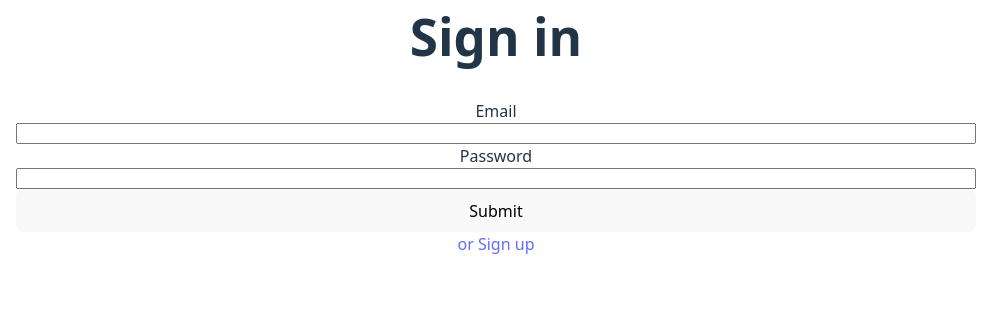
Test: Signin › displays error message when API throws an error
The width and height of the screenshot is (993, 327).
Type "test@example.com" into the field labelled "Email" at [496, 133], box [16,123,976,144]
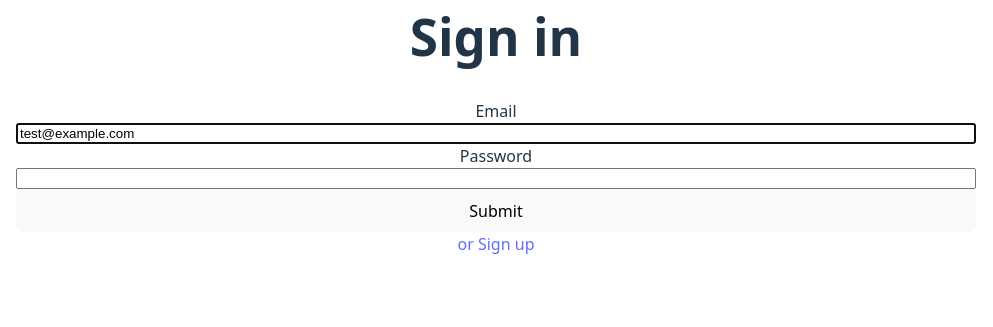
Type "wrongpassword" into the password field labelled "Password" at [496, 178], box [16,168,976,189]
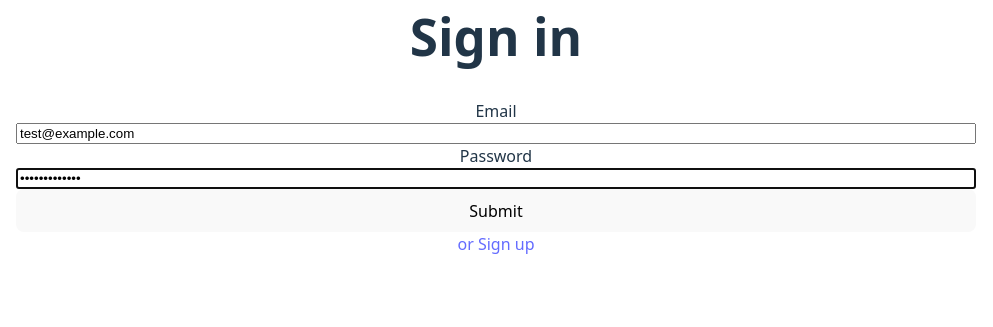
Click the button "Submit" at [496, 210], box [16,189,976,232]
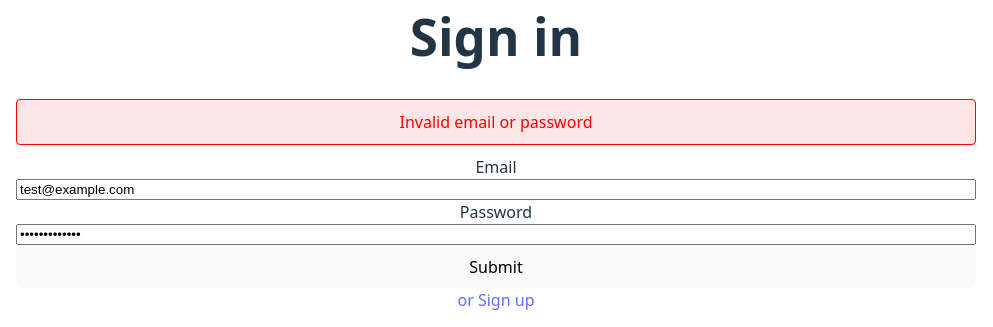
Expected: the text "Invalid email or password" is shown, [16,99,976,145]
